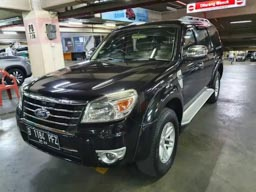plat: (25, 126, 57, 150)
